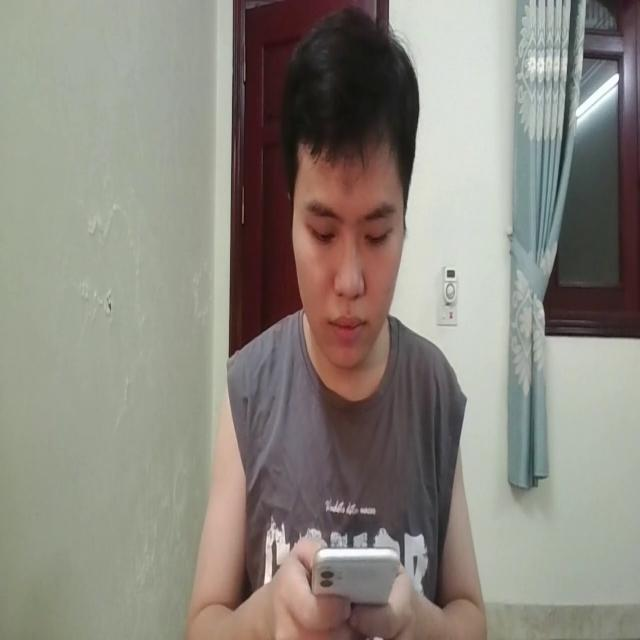phone: (311, 529, 401, 621)
student: (189, 6, 487, 640)
